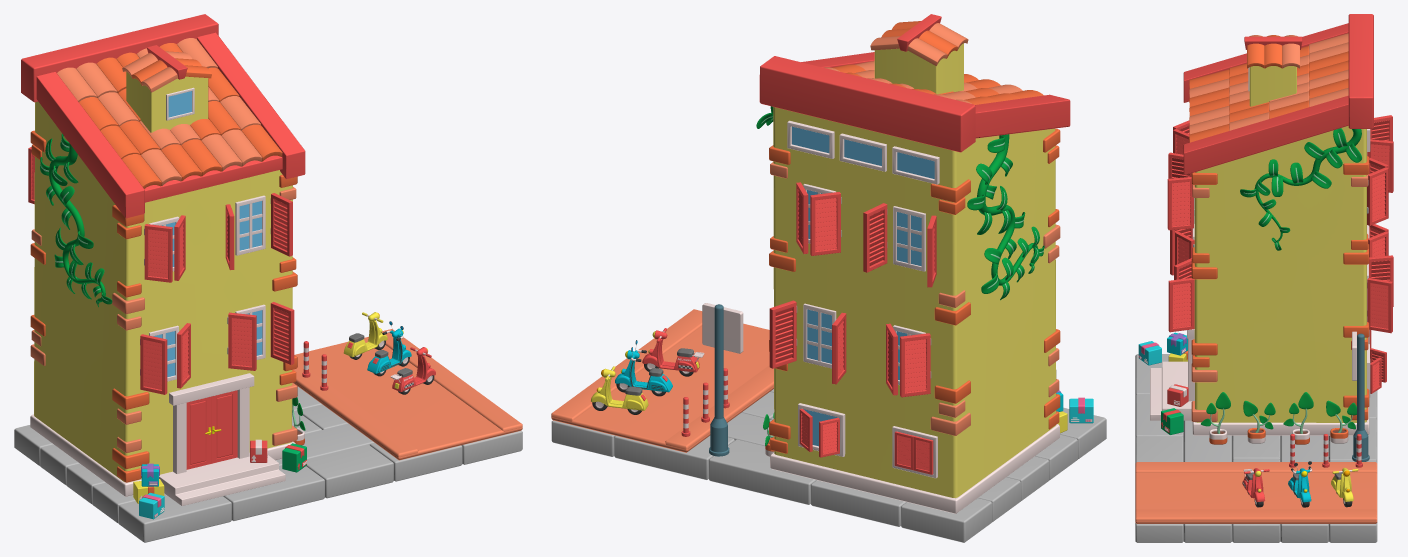
Rendered from City_Island_14.glb.
3 renders of one model, left to right at view 1: azimuth 30°, elevation 25°; view 2: azimuth 150°, elevation 25°; view 3: azimuth 270°, elevation 25°, orthographic. The views are drawn at different scales.
Parts seen in each view (by area): view 1: City_14_House_1, City_14_Base_1, City_14_Road_1, City_14_Ivy_2, City_14_Scooter_1, City_14_Scooter_Delivery_1, City_14_Scooter_2, City_14_Parcel_3; view 2: City_14_House_1, City_14_Base_1, City_14_Road_1, City_14_Ivy_2, City_14_Sign_Scooter_1, City_14_Scooter_Delivery_1, City_14_Scooter_1, City_14_Scooter_2, City_14_Parcel_4; view 3: City_14_House_1, City_14_Road_1, City_14_Base_1, City_14_Ivy_1, City_14_Sign_Scooter_1, City_14_Plant_1, City_14_Plant_3, City_14_Plant_2, City_14_Plant_4, City_14_Scooter_1, City_14_Scooter_Delivery_1, City_14_Scooter_2 (+4 smaller).
Boxes of the visible parts, x1,y1,x2,y2 form: City_14_House_1: (21,14,305,505); City_14_Base_1: (14,386,522,542); City_14_Road_1: (293,329,522,460); City_14_Ivy_2: (40,133,112,306); City_14_Scooter_1: (367,321,411,376); City_14_Scooter_Delivery_1: (390,347,435,394); City_14_Scooter_2: (343,312,387,359); City_14_Parcel_3: (282,443,306,472); City_14_House_1: (759,14,1070,513); City_14_Base_1: (551,389,1106,542); City_14_Road_1: (551,309,773,452); City_14_Ivy_2: (967,134,1044,300); City_14_Sign_Scooter_1: (702,303,743,456); City_14_Scooter_Delivery_1: (642,328,704,376); City_14_Scooter_1: (615,340,672,396); City_14_Scooter_2: (591,366,648,414); City_14_Parcel_4: (1069,397,1093,423); City_14_House_1: (1150,14,1393,435); City_14_Road_1: (1135,462,1377,523); City_14_Base_1: (1135,354,1377,542); City_14_Ivy_1: (1240,128,1361,250); City_14_Sign_Scooter_1: (1352,331,1369,461); City_14_Plant_1: (1243,400,1275,443); City_14_Plant_3: (1326,400,1356,443); City_14_Plant_2: (1201,392,1230,444); City_14_Plant_4: (1283,392,1313,444); City_14_Scooter_1: (1288,461,1312,507); City_14_Scooter_Delivery_1: (1242,468,1269,507); City_14_Scooter_2: (1331,467,1358,507).
Size of the model in its own units: 12.2 by 12.54 by 7.77.
21 materials, 21 textured.
